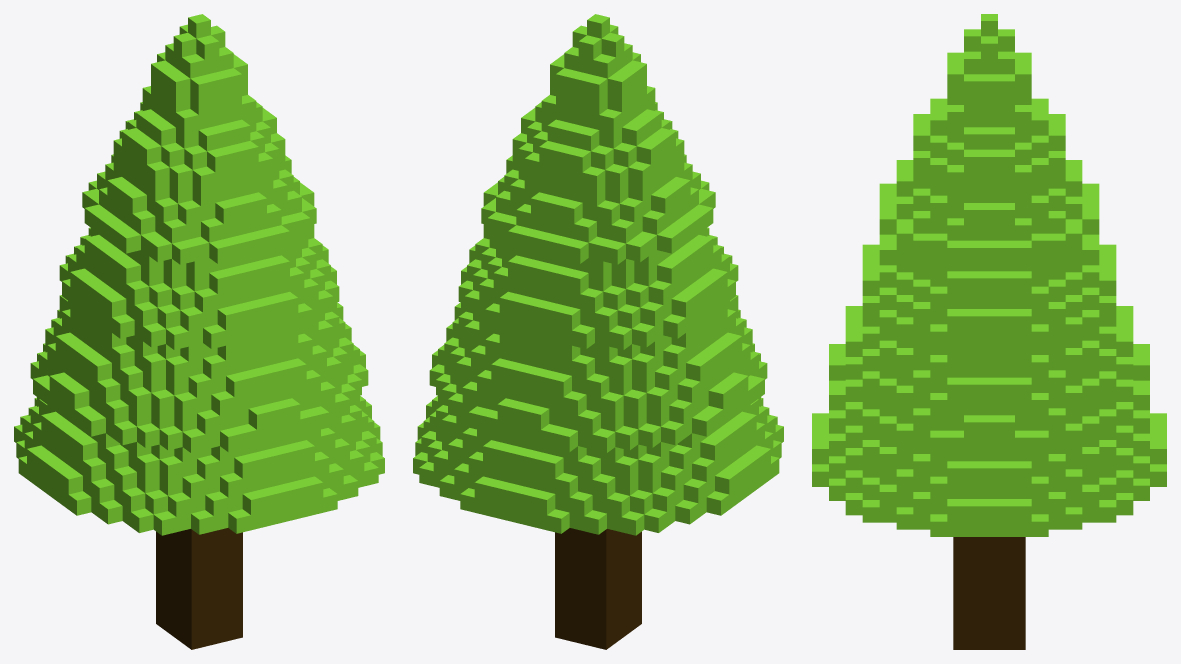
Rendered from pine_tree.fbx.
3 views of the same model, side by side, from view 1: azimuth 30°, elevation 25°; view 2: azimuth 150°, elevation 25°; view 3: azimuth 270°, elevation 25° (orthographic).
Parts seen in each view (by area): view 1: Plane; view 2: Plane; view 3: Plane.
Part boxes in pixels (x1,y1,x2,y2): Plane: [14, 14, 384, 649]; Plane: [413, 14, 783, 649]; Plane: [812, 14, 1166, 649].
Bounding box in the file's own units: 540 × 1040 × 540.
